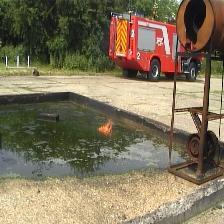fire: (96, 118, 114, 135)
